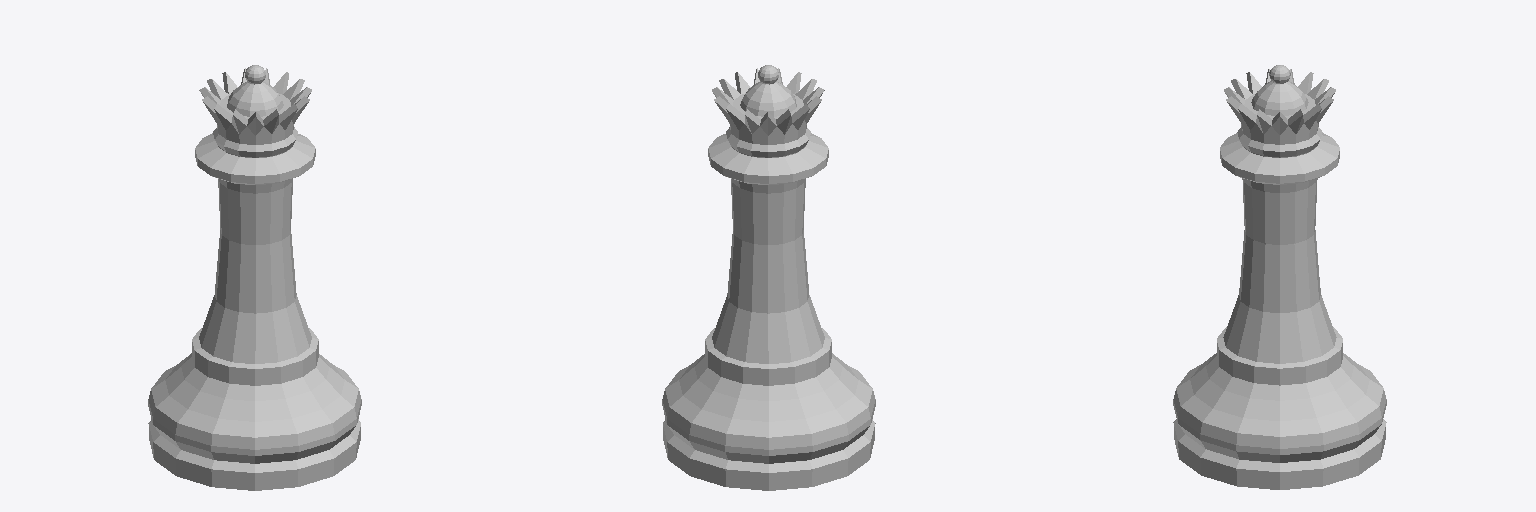
Rendered from queen.obj.
3 renders of one model, left to right at view 1: azimuth 30°, elevation 25°; view 2: azimuth 150°, elevation 25°; view 3: azimuth 270°, elevation 25°, orthographic.
Visible parts, largest first — view 1: pieces; view 2: pieces; view 3: pieces.
Boxes of the visible parts, box(x1,y1,x2,y2) form: pieces: box(148, 65, 361, 490); pieces: box(662, 65, 875, 490); pieces: box(1173, 65, 1386, 489).
Bounding box in the file's own units: 0.9572 × 1.89 × 0.9624.